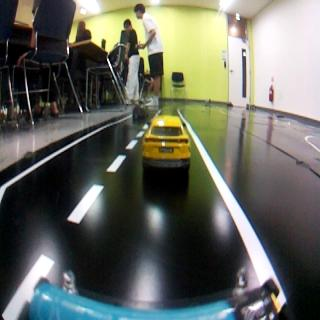car: (144, 115, 190, 171), (133, 106, 149, 119)
